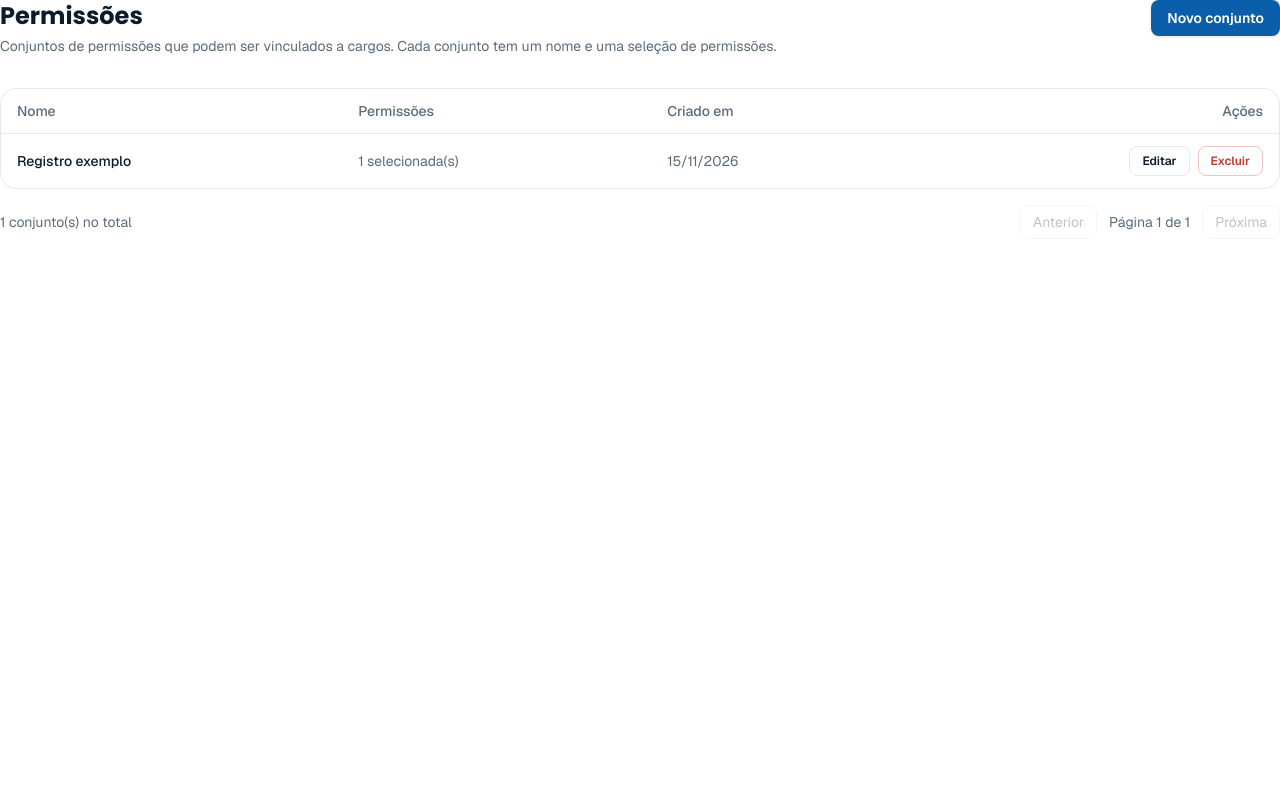
it: permissions editing › refreshes only the list after delete
Expected: the text "Registro exemplo" is shown, left=1, top=134, right=342, bottom=188
Click the button "Excluir" at [1230, 161], box left=1198, top=146, right=1263, bottom=176
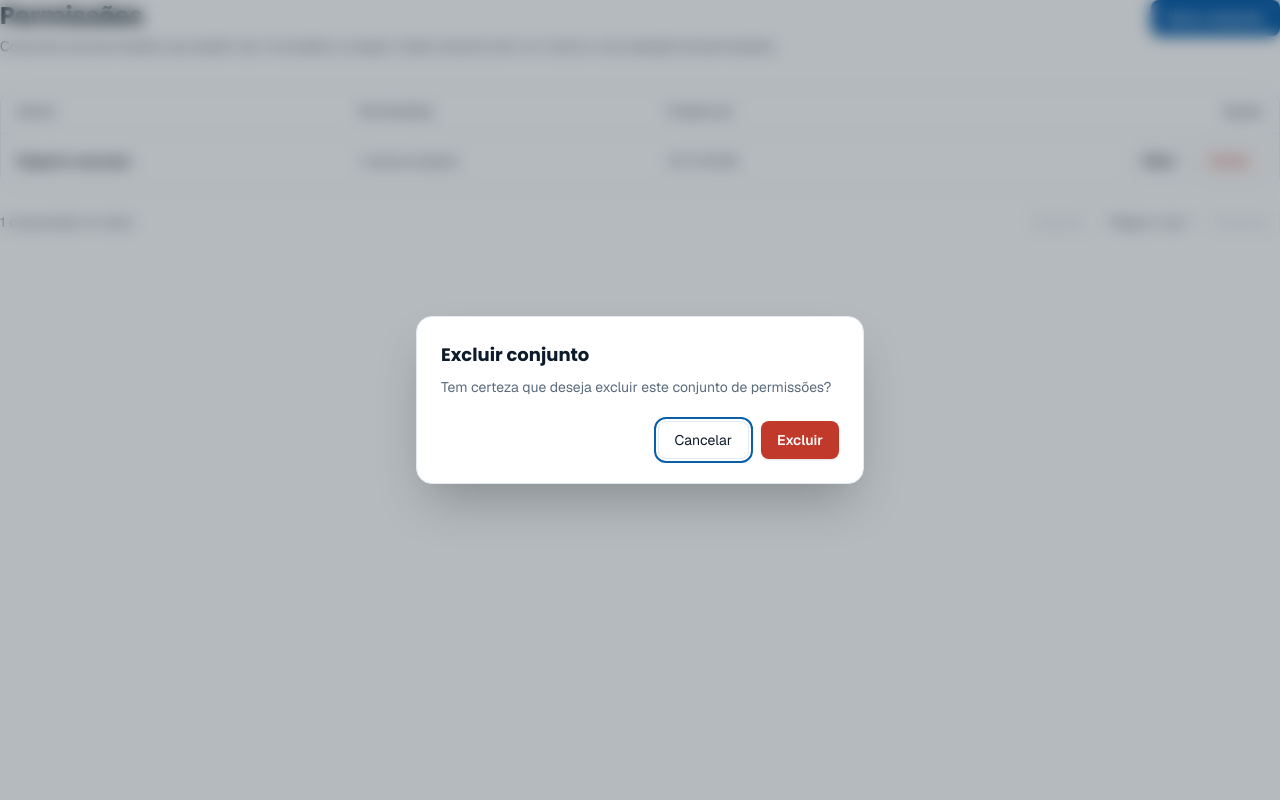
Click the button "Excluir" at [800, 440], box left=761, top=421, right=839, bottom=459
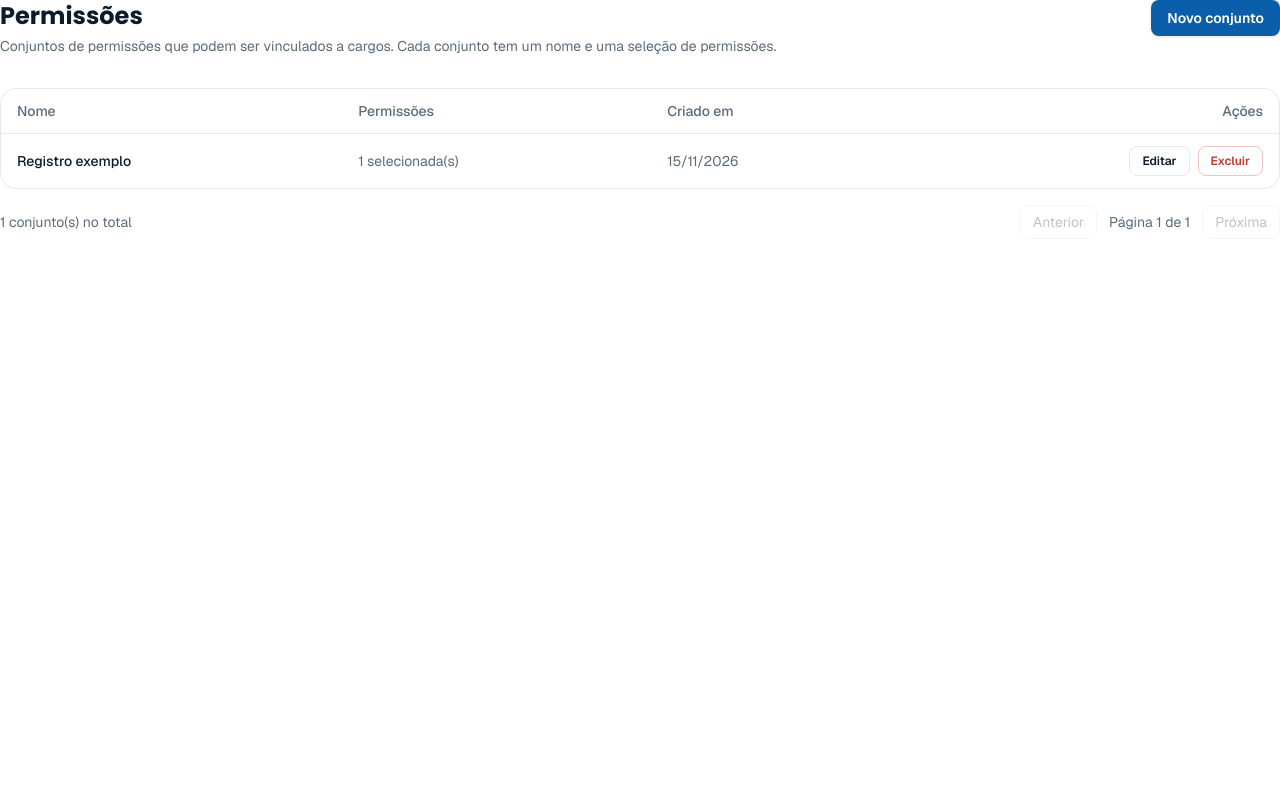
Expected: the text "Registro exemplo" is shown, left=1, top=134, right=342, bottom=188
Expected: the dialog is gone
